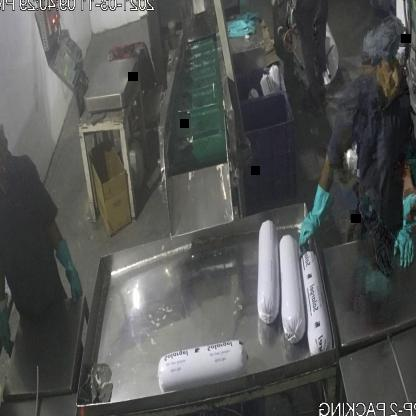glove: (295, 179, 337, 261), (50, 229, 84, 310), (0, 288, 18, 360)
